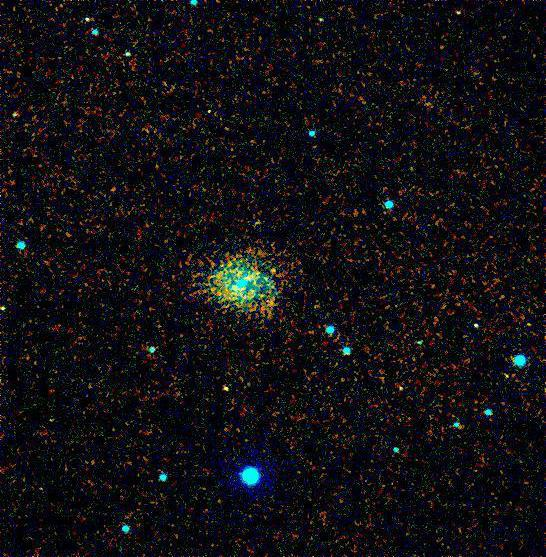star: (260, 256, 290, 286)
